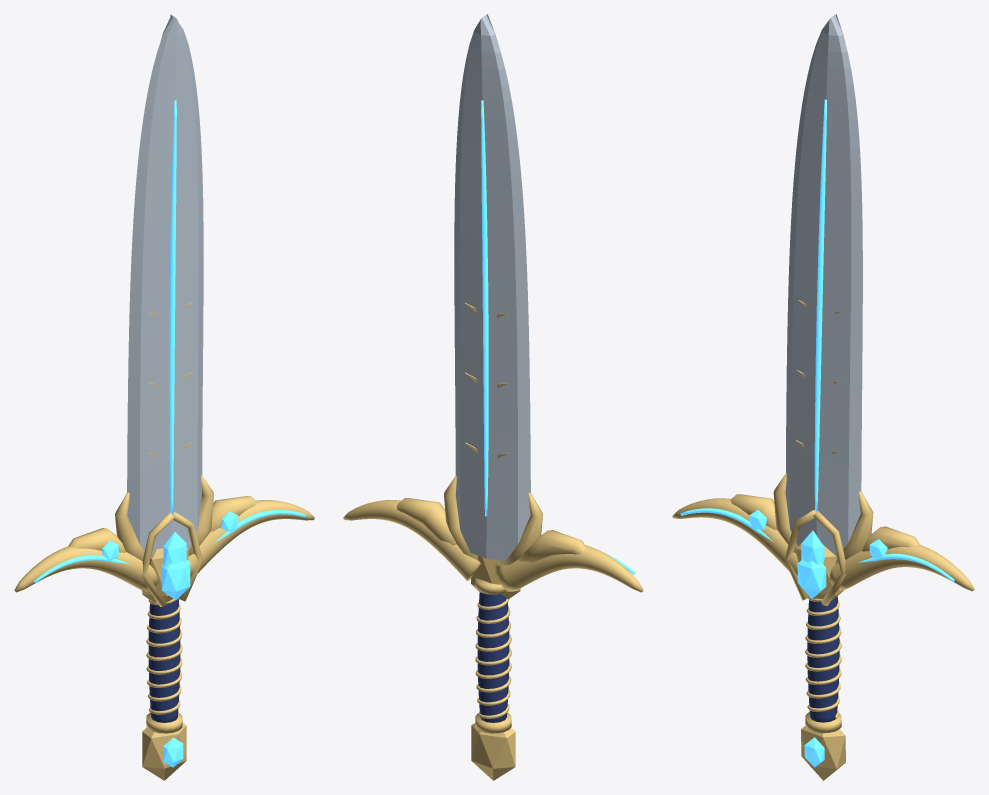
File: exclusive_azure_oath.glb
3 renders of one model, left to right at view 1: azimuth 30°, elevation 25°; view 2: azimuth 150°, elevation 25°; view 3: azimuth 330°, elevation 25°, orthographic.
Visible parts, largest first — view 1: Oath of the Azure Crown blade, Tapered leather grip.010, Swept guard wing.020, Curved fuller inlay.020, Swept guard wing.021, Faceted pommel.010, Helical grip binding.010, Guard gemstone.010, Crown blade prong.014, Royal wing crest.001, Crown blade prong.015, Royal shield outline (+4 smaller); view 2: Oath of the Azure Crown blade, Tapered leather grip.010, Swept guard wing.020, Swept guard wing.021, Curved fuller inlay.021, Faceted pommel.010, Helical grip binding.010, Royal wing crest.001, Royal wing crest, Crown blade prong.014, Crown blade prong.015, Guard socket.010; view 3: Oath of the Azure Crown blade, Tapered leather grip.010, Swept guard wing.021, Curved fuller inlay.020, Swept guard wing.020, Helical grip binding.010, Faceted pommel.010, Crown blade prong.015, Guard gemstone.010, Royal wing crest, Royal shield outline.001, Crown blade prong.014 (+4 smaller).
Boxes of the visible parts, x1,y1,x2,y2 form: Oath of the Azure Crown blade: [127, 14, 203, 555]; Tapered leather grip.010: [148, 600, 180, 722]; Swept guard wing.020: [14, 546, 159, 592]; Curved fuller inlay.020: [169, 100, 176, 514]; Swept guard wing.021: [188, 500, 314, 576]; Faceted pommel.010: [142, 723, 186, 780]; Helical grip binding.010: [146, 599, 182, 714]; Guard gemstone.010: [161, 560, 190, 599]; Crown blade prong.014: [115, 492, 149, 564]; Royal wing crest.001: [211, 496, 256, 531]; Crown blade prong.015: [188, 475, 213, 555]; Royal shield outline: [142, 512, 174, 607]; Oath of the Azure Crown blade: [454, 14, 530, 561]; Tapered leather grip.010: [477, 592, 509, 722]; Swept guard wing.020: [495, 545, 643, 592]; Swept guard wing.021: [343, 500, 480, 580]; Curved fuller inlay.021: [481, 100, 488, 516]; Faceted pommel.010: [471, 723, 515, 780]; Helical grip binding.010: [475, 599, 511, 718]; Royal wing crest.001: [396, 498, 456, 545]; Royal wing crest: [518, 530, 585, 562]; Crown blade prong.014: [497, 492, 542, 565]; Crown blade prong.015: [444, 475, 478, 560]; Guard socket.010: [471, 555, 520, 599]; Oath of the Azure Crown blade: [785, 14, 862, 557]; Tapered leather grip.010: [807, 596, 839, 722]; Swept guard wing.021: [828, 545, 974, 591]; Curved fuller inlay.020: [814, 99, 826, 512]; Swept guard wing.020: [672, 498, 798, 575]; Helical grip binding.010: [805, 596, 841, 719]; Faceted pommel.010: [801, 726, 845, 780]; Crown blade prong.015: [835, 491, 873, 563]; Guard gemstone.010: [797, 559, 826, 598]; Royal wing crest: [730, 494, 776, 529]; Royal shield outline.001: [813, 511, 845, 605]; Crown blade prong.014: [773, 473, 797, 552].
Bounding box in the file's own units: 2.55 × 6.2 × 0.3739.
